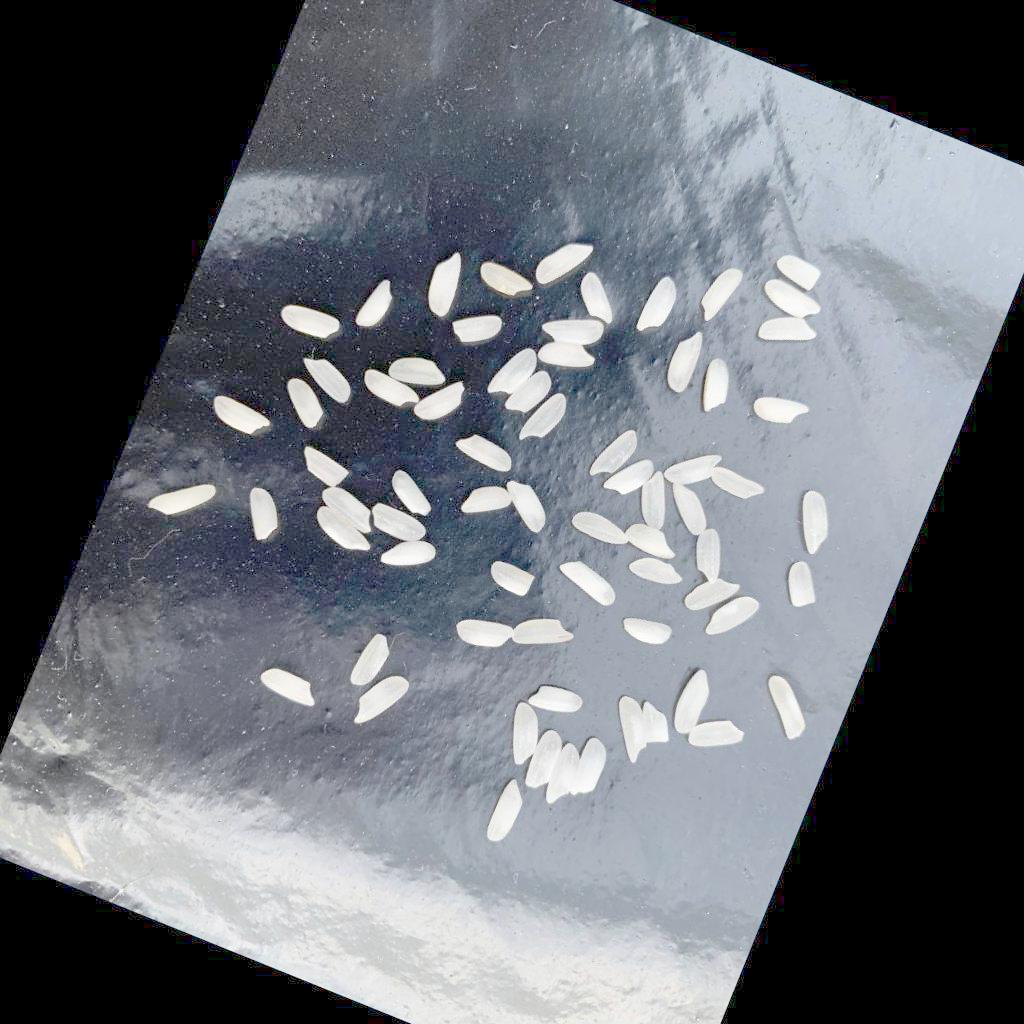rice: (751, 674, 819, 744), (146, 467, 216, 530), (601, 696, 661, 767), (352, 666, 412, 737), (532, 231, 593, 298), (784, 488, 840, 558), (509, 607, 577, 664), (552, 556, 623, 610), (495, 701, 549, 770), (419, 248, 470, 321), (538, 304, 606, 358), (517, 385, 571, 452), (410, 369, 468, 431), (487, 340, 542, 405), (588, 421, 641, 488), (315, 484, 382, 537), (310, 506, 378, 558), (704, 587, 761, 649), (668, 667, 717, 739), (494, 479, 555, 536), (755, 306, 820, 359), (294, 354, 359, 407), (662, 440, 722, 497), (658, 483, 717, 540), (757, 277, 825, 326), (630, 469, 682, 533), (452, 609, 517, 659), (483, 779, 530, 848), (566, 736, 613, 805), (661, 327, 708, 396), (235, 487, 289, 547), (687, 710, 748, 763), (683, 569, 740, 625), (694, 264, 743, 329), (451, 428, 517, 476), (535, 333, 599, 382), (386, 349, 450, 398), (503, 362, 555, 422), (635, 274, 682, 340), (521, 727, 567, 794), (570, 271, 626, 326), (602, 449, 657, 505), (358, 368, 423, 415), (207, 394, 272, 441), (379, 529, 438, 580), (684, 525, 734, 585), (276, 377, 331, 431), (542, 741, 585, 810), (447, 302, 504, 354), (459, 477, 516, 529), (349, 630, 396, 693), (382, 470, 440, 521), (256, 664, 321, 709), (367, 501, 430, 547), (692, 357, 739, 418), (569, 507, 633, 551), (277, 301, 340, 345), (750, 390, 810, 436), (620, 519, 681, 563), (474, 260, 535, 303), (528, 679, 586, 724), (778, 559, 826, 613), (355, 276, 398, 335), (626, 552, 686, 594), (297, 446, 353, 491), (708, 466, 767, 507), (630, 701, 679, 750), (771, 252, 824, 294), (619, 610, 673, 651), (486, 560, 535, 599)
